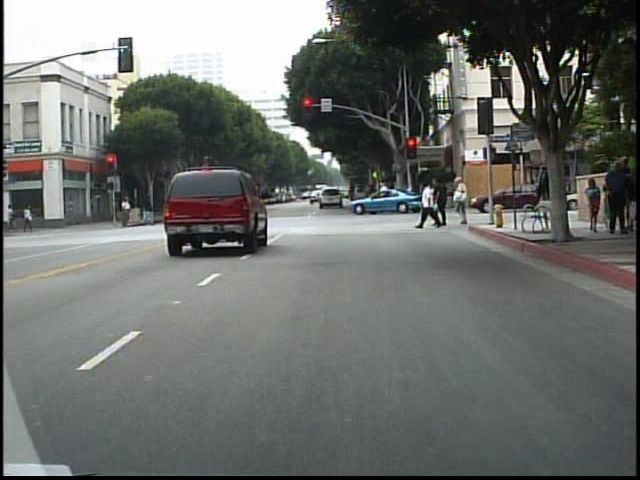person: (581, 174, 603, 235), (533, 164, 552, 226), (418, 180, 441, 230), (453, 175, 471, 228), (436, 178, 453, 227), (246, 180, 263, 228), (377, 177, 394, 215), (22, 202, 38, 237), (6, 200, 21, 235), (142, 192, 156, 228), (121, 194, 134, 231), (363, 182, 378, 214), (404, 181, 417, 214)
